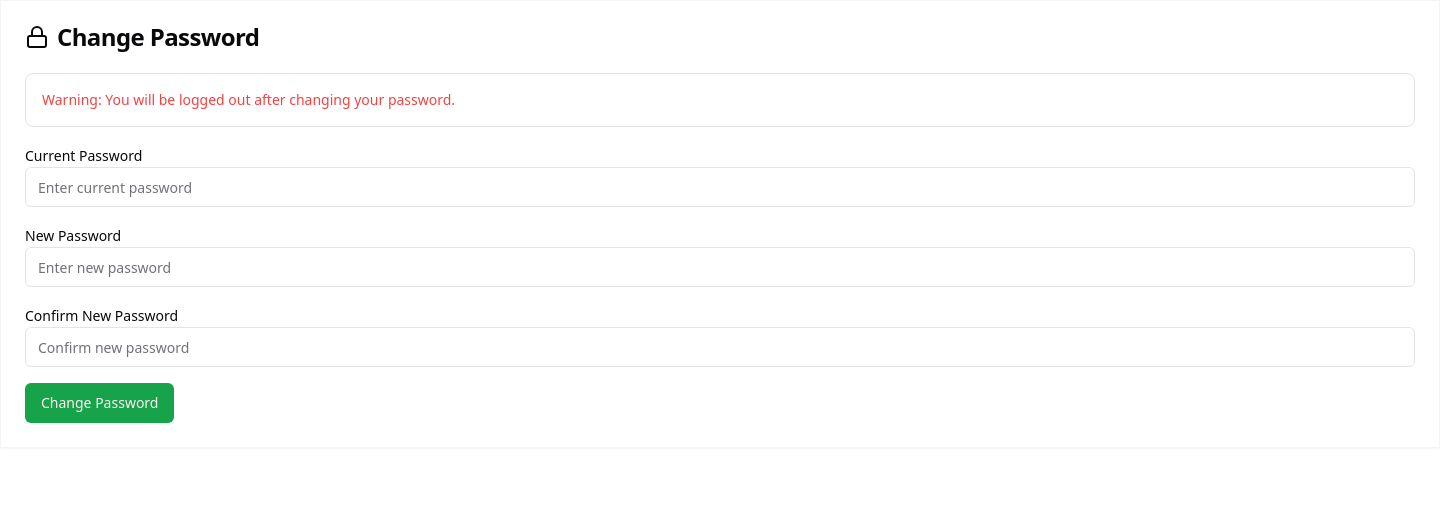
ChangePasswordForm › displays an error when passwords don't match
This screenshot has width=1440, height=505.
Type "oldpass" into the password field labelled "Current Password" at (720, 187), box top-left (25, 167), bottom-right (1415, 207)
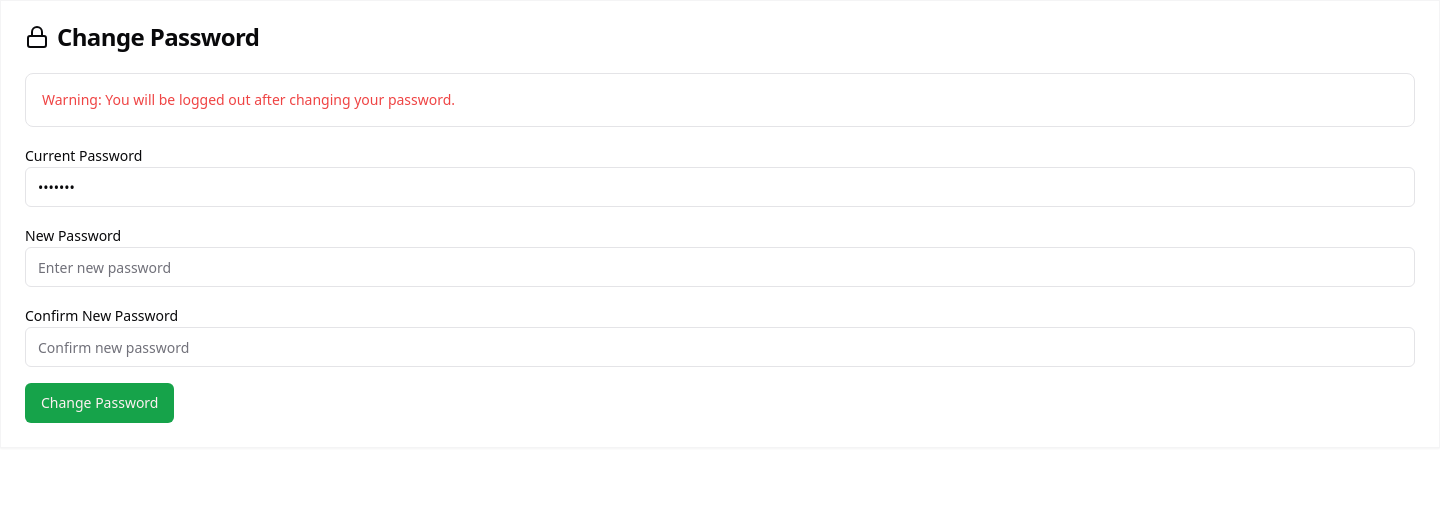
Type "newpass" into the password field labelled "New Password" at (720, 267), box top-left (25, 247), bottom-right (1415, 287)
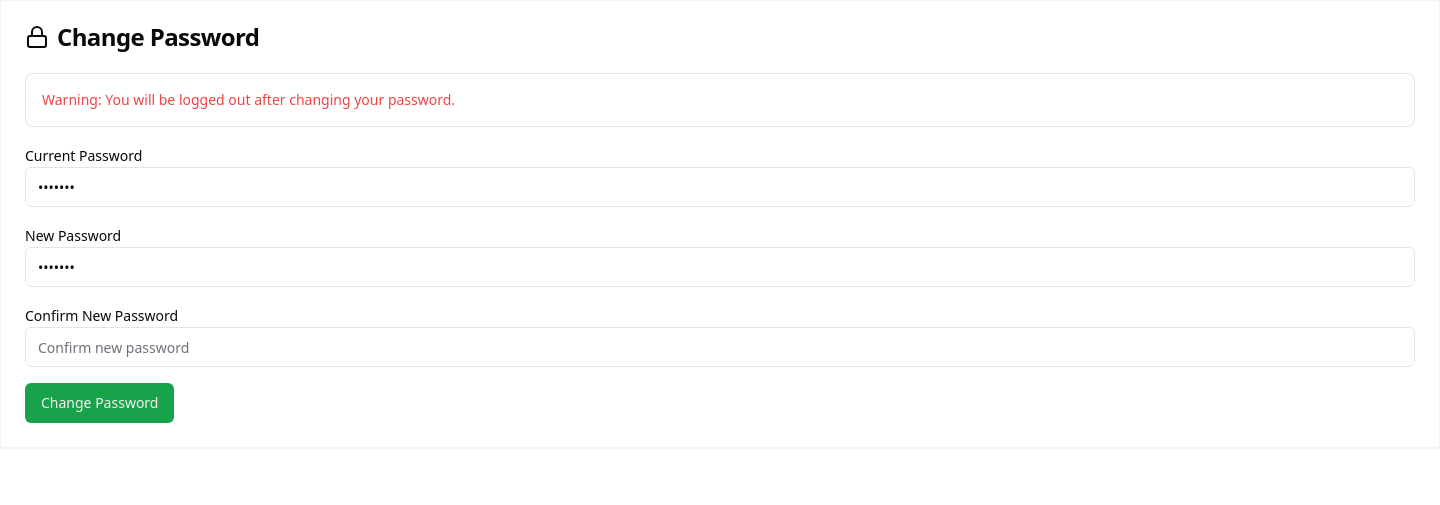
Type "differentpass" into the password field labelled "Confirm New Password" at (720, 347), box top-left (25, 327), bottom-right (1415, 367)
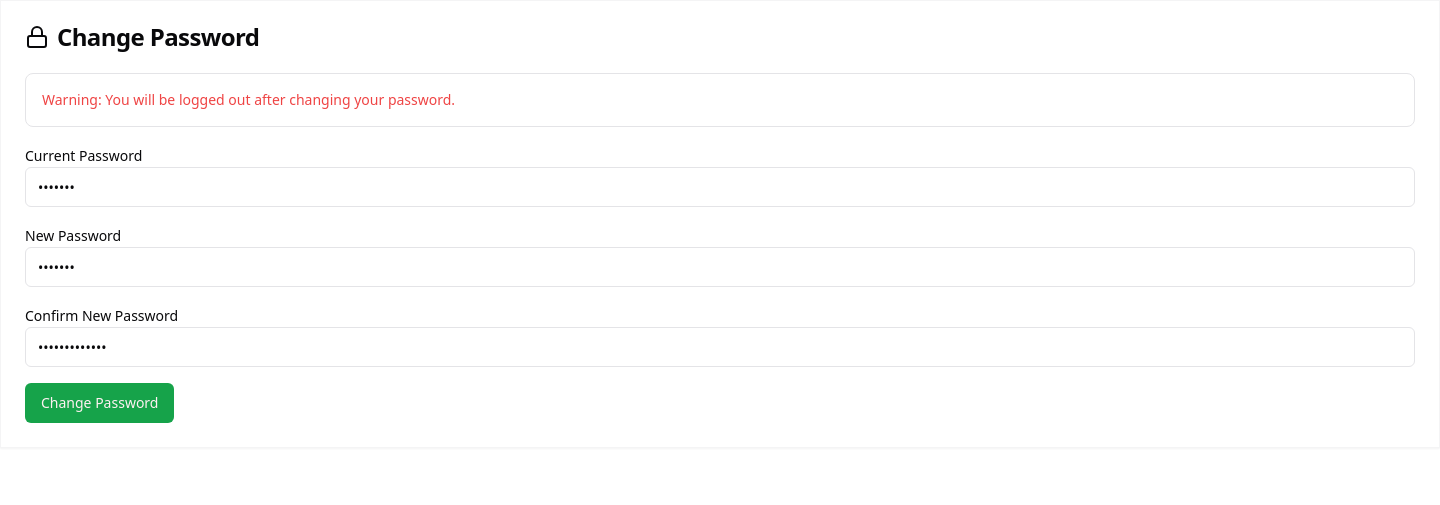
Click the button "Change Password" at (100, 403), box top-left (25, 383), bottom-right (174, 423)
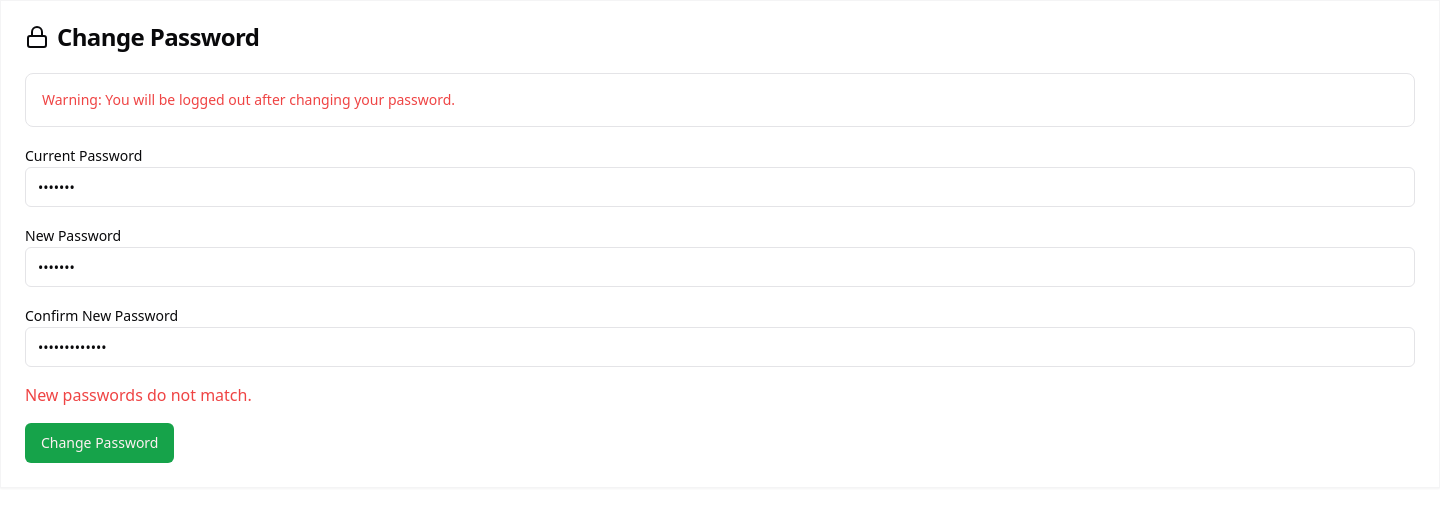
Check: the text "New passwords do not match." is shown, box top-left (25, 384), bottom-right (252, 406)
